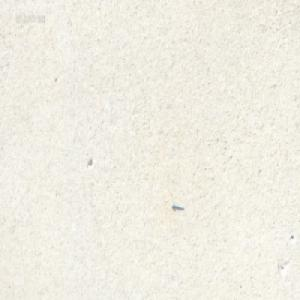Nail: (171, 201, 183, 209)
